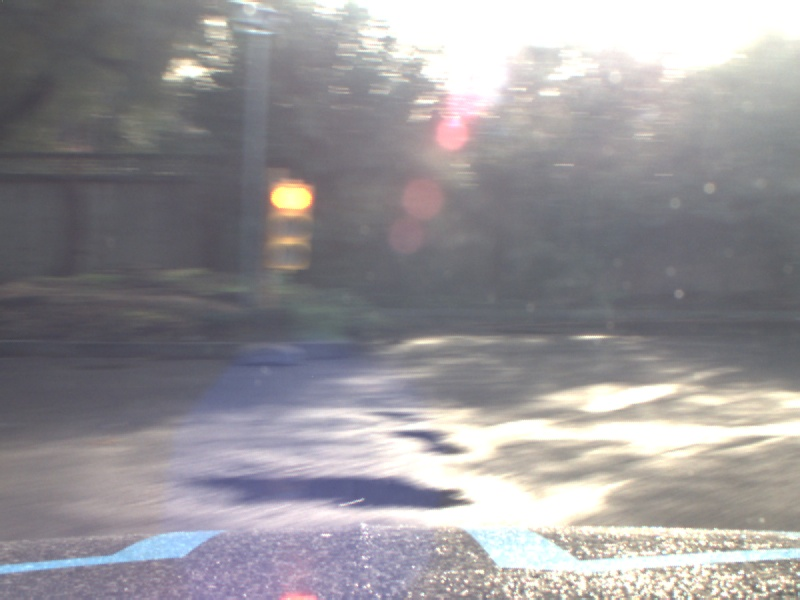Red: (264, 179, 311, 274)
